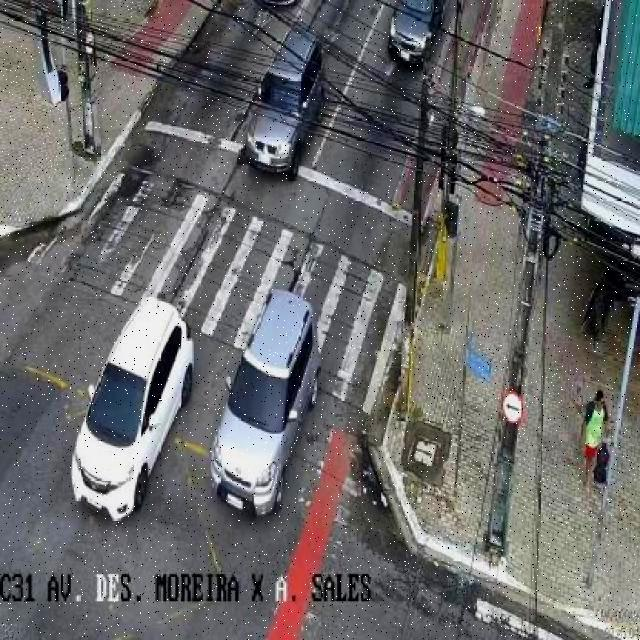Car: (70, 298, 198, 524), (208, 288, 321, 523), (240, 24, 328, 183), (384, 0, 458, 66)
